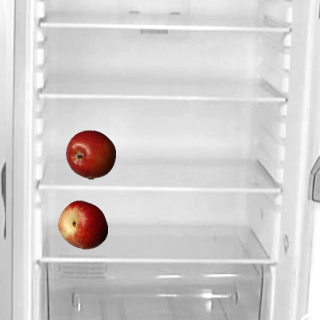Apple Braeburn: (65, 129, 115, 179)
Nectarine: (57, 199, 107, 249)
